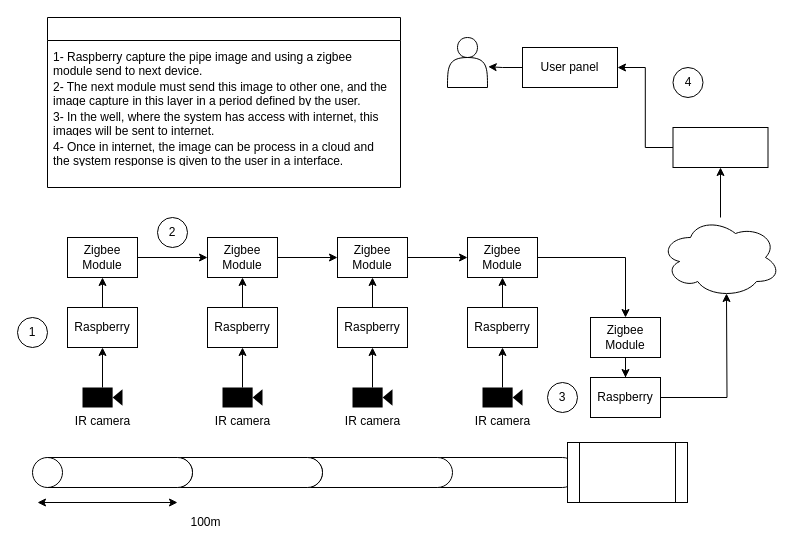
The diagram is 798 pixels wide and 555 high, and some of its shapes have lost their labels. Here are the shapes that lost their labels. From the top down, the box of each, then its label:
(446, 36, 488, 88): User
(46, 16, 400, 188): Description
(672, 126, 768, 168): Server
(660, 216, 780, 298): Internet Access
(566, 442, 688, 502): Well
